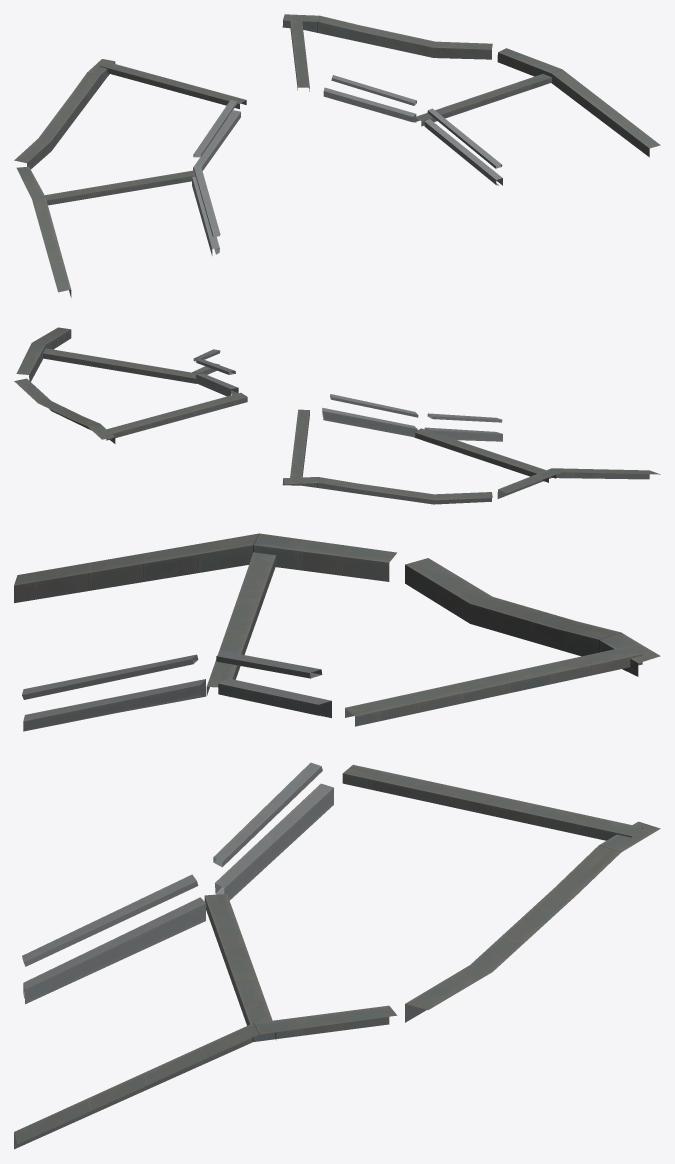
The model's file is Indoor_MdBuild_Church01_Stairs_1624_0.fbx.
3 views of the same model, one above another, from view 1: azimuth 30°, elevation 25°; view 2: azimuth 150°, elevation 25°; view 3: azimuth 270°, elevation 25° (orthographic). The views are drawn at different scales.
Parts seen in each view (by area): view 1: Indoor_MdBuild_Church01_Stairs_1624_0; view 2: Indoor_MdBuild_Church01_Stairs_1624_0; view 3: Indoor_MdBuild_Church01_Stairs_1624_0.
Part boxes in pixels (<box>): Indoor_MdBuild_Church01_Stairs_1624_0: <box>14,14,660,297</box>; Indoor_MdBuild_Church01_Stairs_1624_0: <box>14,327,660,504</box>; Indoor_MdBuild_Church01_Stairs_1624_0: <box>14,533,660,1149</box>.
Size of the model in its own units: 30.77 by 4.02 by 14.77.
